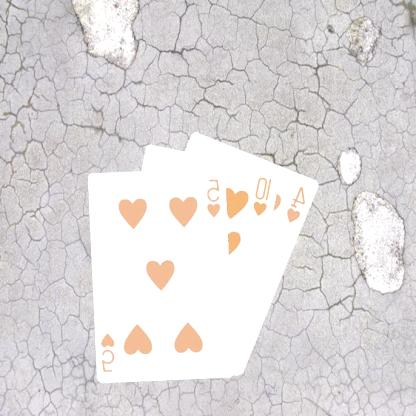10H: (252, 174, 275, 217)
4H: (286, 184, 309, 224)
5H: (206, 176, 224, 219), (100, 330, 118, 373)
